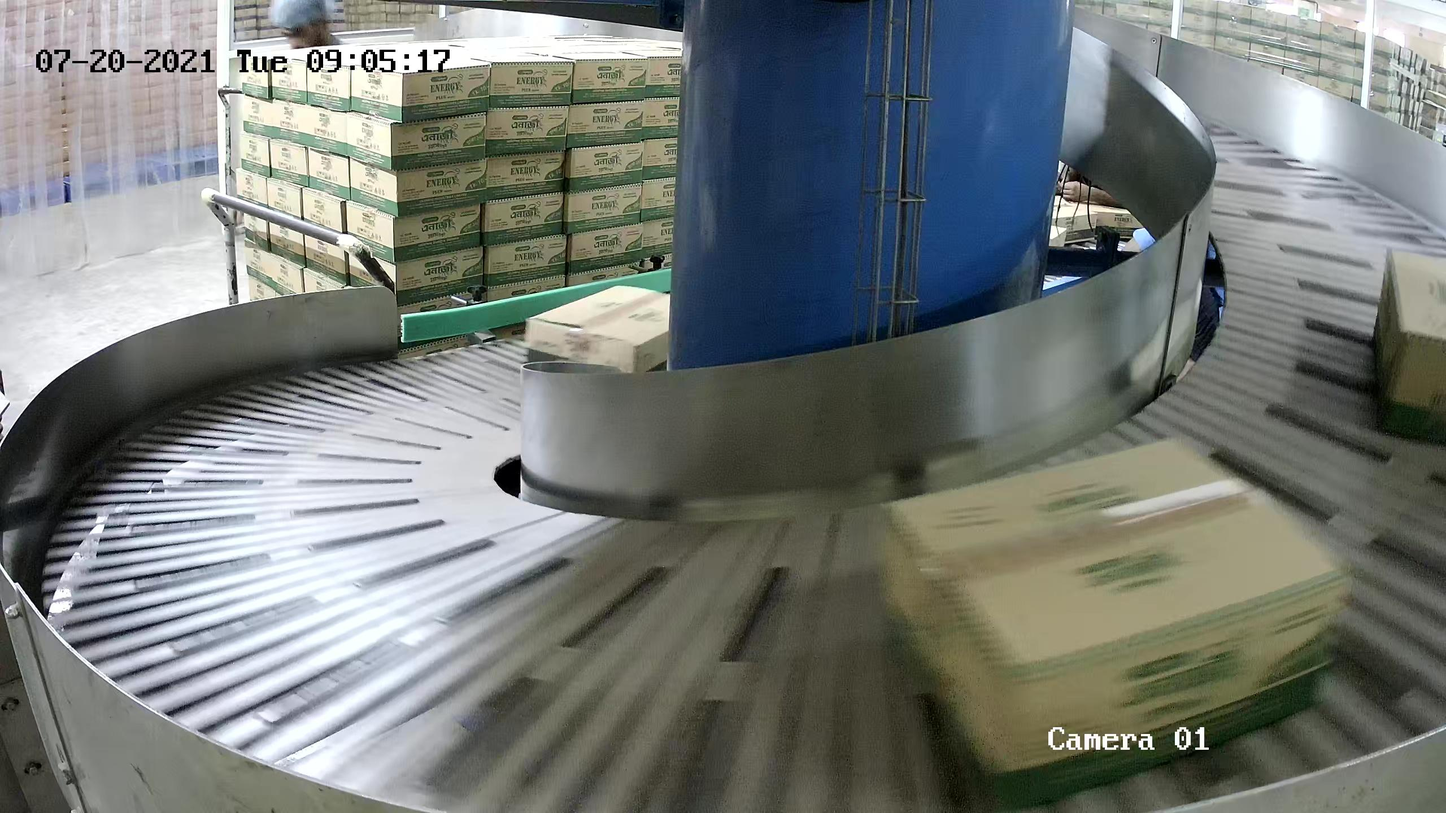Box: (872, 431, 1357, 813), (522, 283, 671, 388), (1371, 244, 1446, 444)
